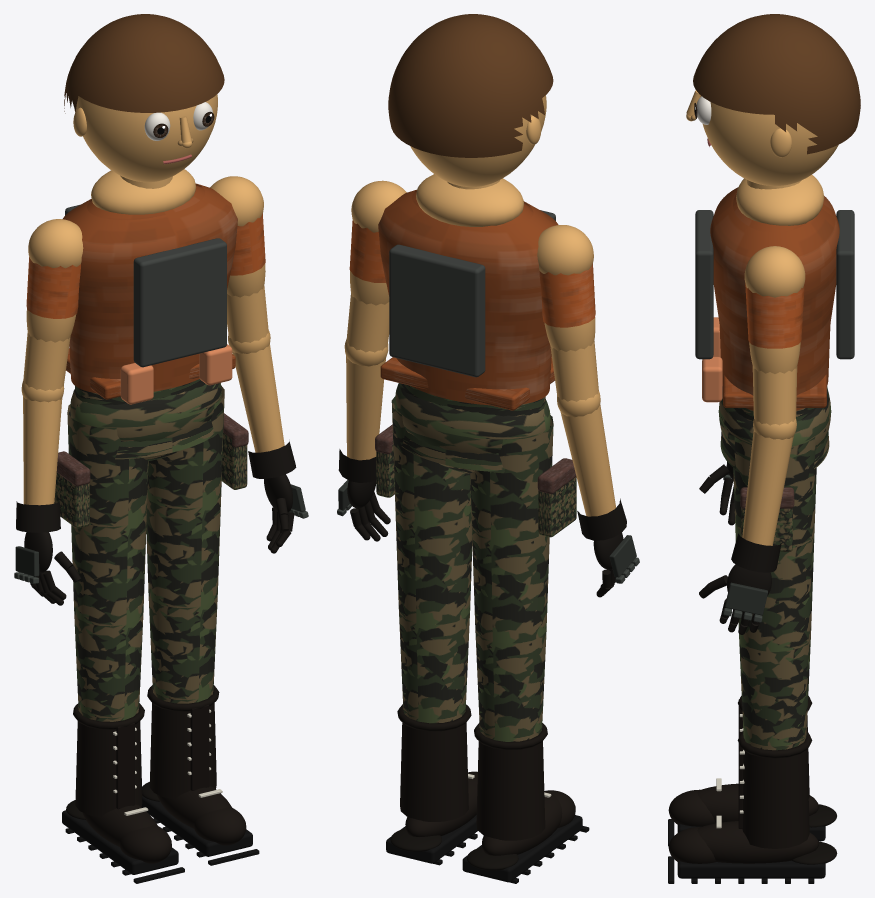
The model's file is 07-plaque-de-blindage.glb.
The picture shows the model from 3 angles, left to right: view 1: azimuth 30°, elevation 25°; view 2: azimuth 150°, elevation 25°; view 3: azimuth 270°, elevation 25°; orthographic projection. The views are drawn at different scales.
Bounding box in the file's own units: 0.6344 × 1.77 × 0.3715.
Materials: 25 (5 with a texture image).
